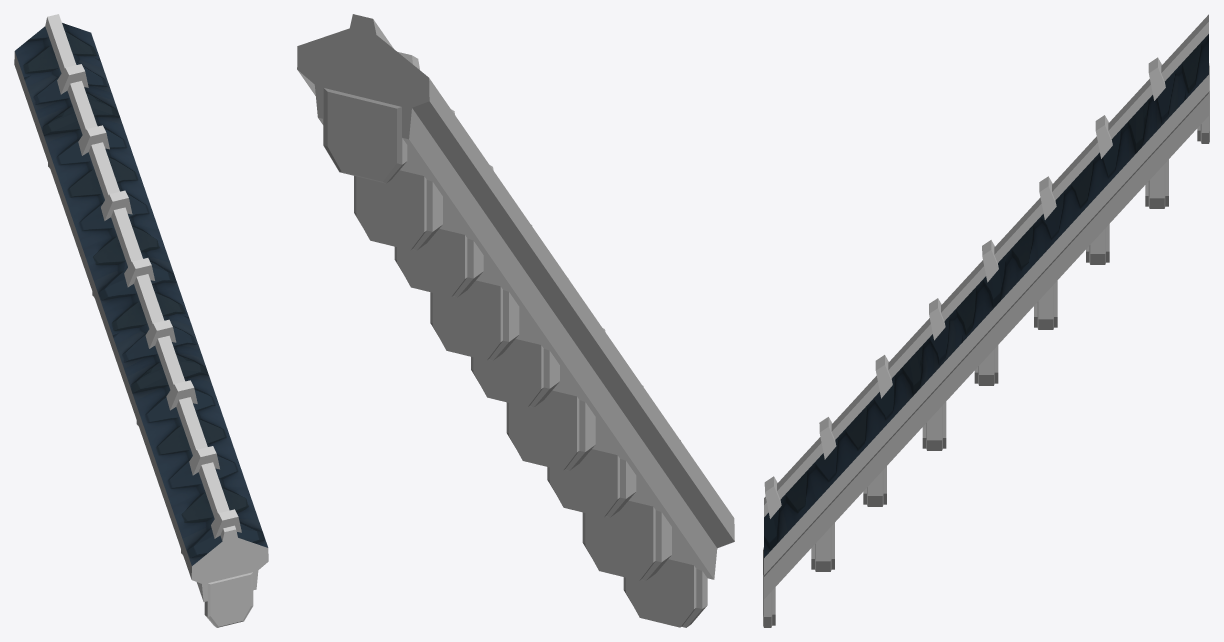
Rendered from SM_Bld_Roof_Cap_Angle_01.fbx.
3 renders of one model, left to right at view 1: azimuth 30°, elevation 25°; view 2: azimuth 150°, elevation 25°; view 3: azimuth 270°, elevation 25°, orthographic. The views are drawn at different scales.
Parts seen in each view (by area): view 1: SM_Bld_Roof_Cap_Angle_01; view 2: SM_Bld_Roof_Cap_Angle_01; view 3: SM_Bld_Roof_Cap_Angle_01.
Part boxes in pixels (box(x1,y1,x2,y2)): SM_Bld_Roof_Cap_Angle_01: box(14, 14, 268, 627); SM_Bld_Roof_Cap_Angle_01: box(297, 14, 734, 627); SM_Bld_Roof_Cap_Angle_01: box(763, 14, 1209, 627).
Bounding box in the file's own units: 62.62 × 373 × 251.
